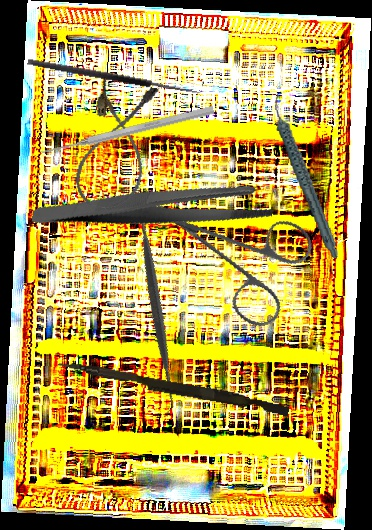Cannula: (69, 74, 164, 216)
Dressing Forceps: (31, 143, 277, 271)
Handpiece: (271, 88, 341, 264)
Hook Surgical: (26, 49, 205, 98)
Iris Scissors: (147, 163, 330, 348)
Pusher: (56, 359, 291, 417), (40, 103, 215, 159)
Spatula Surgical: (42, 189, 270, 415)
